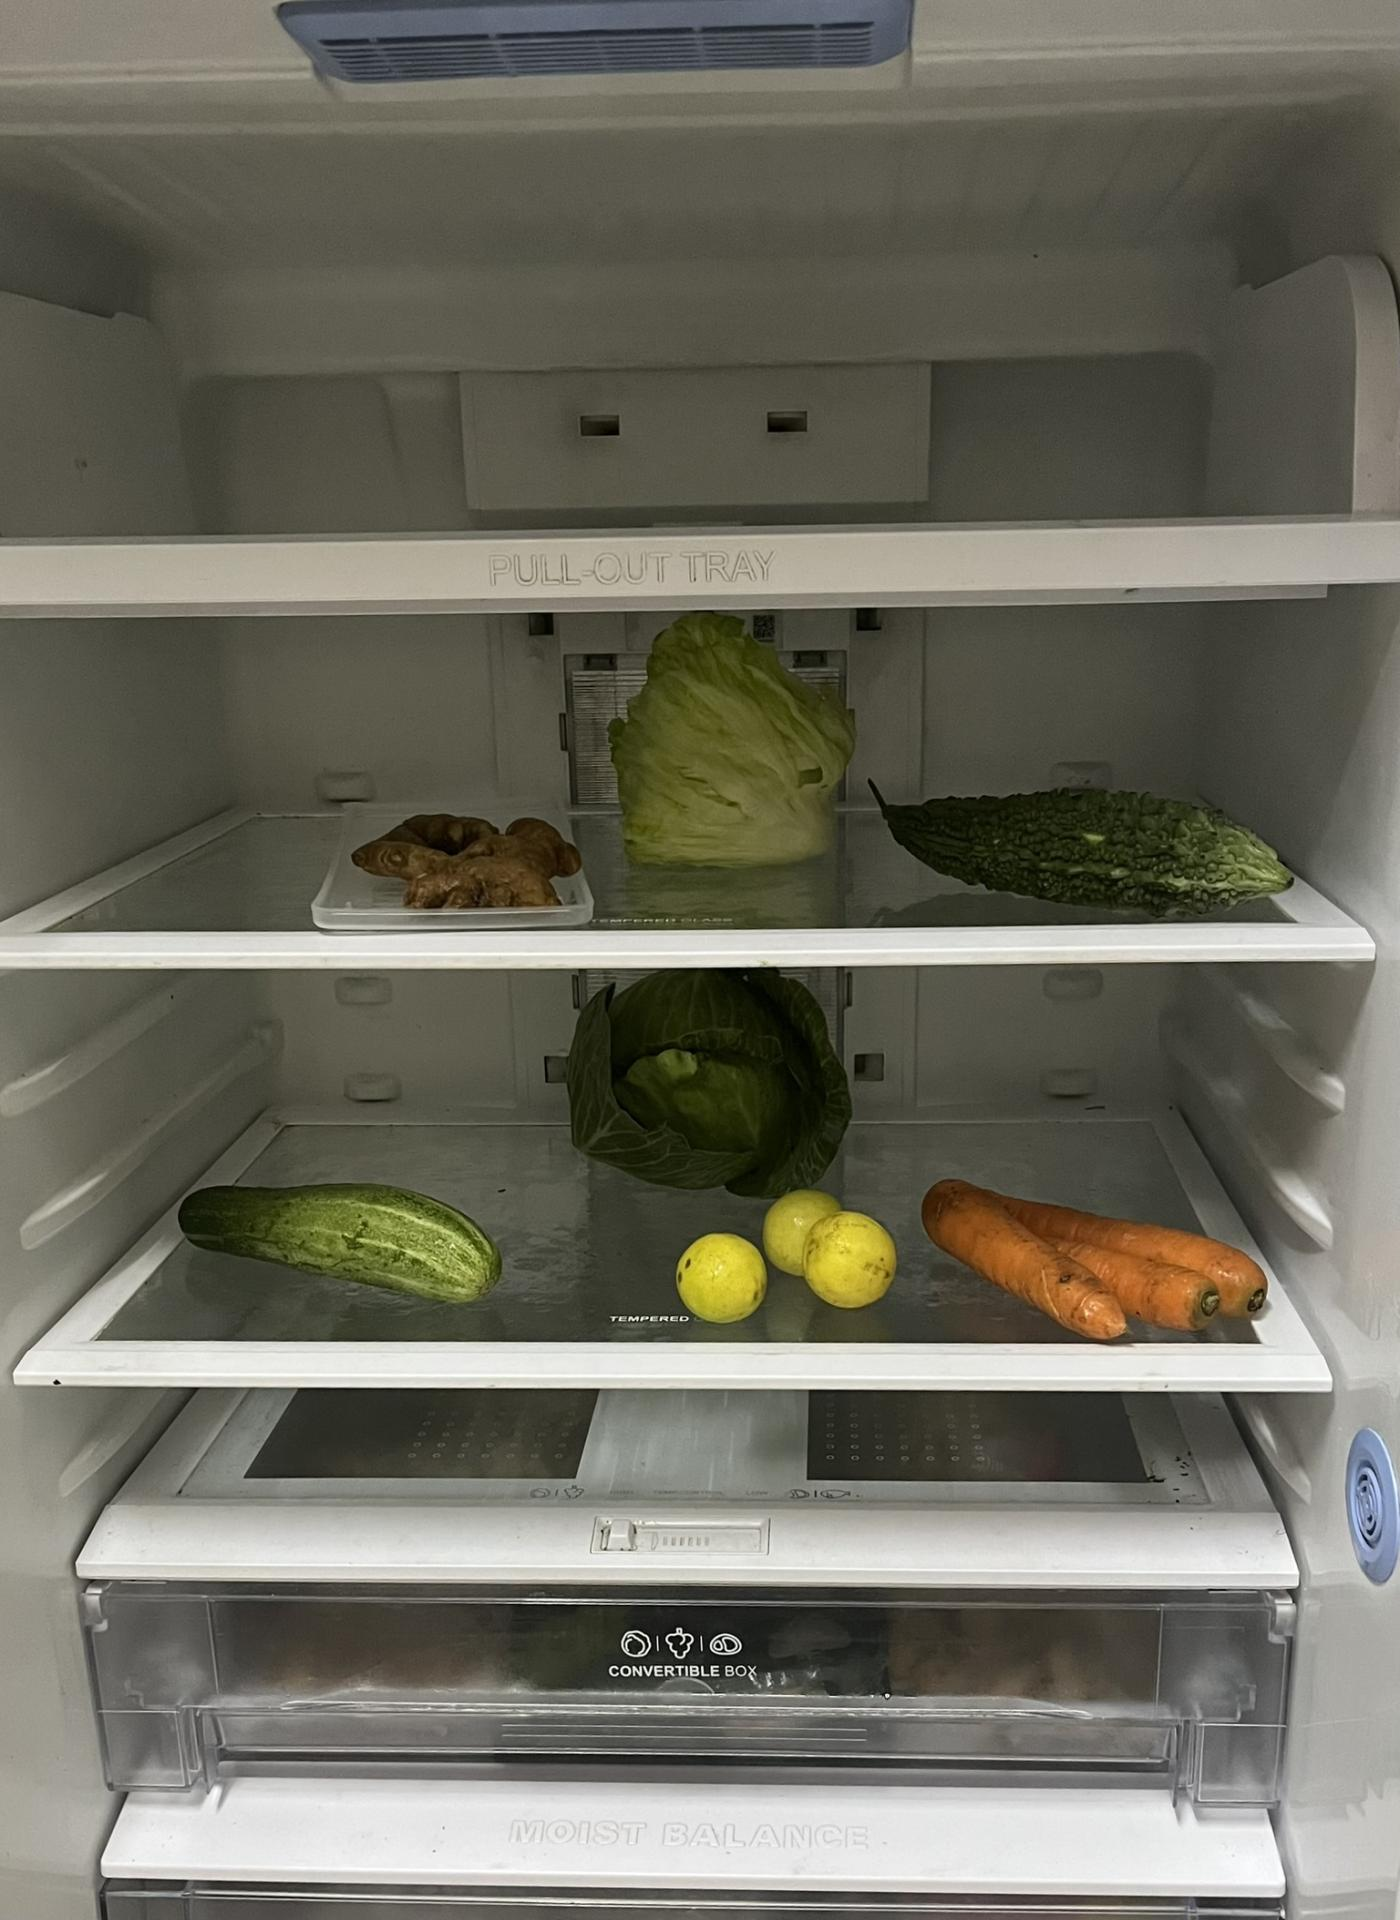cabbage: (564, 976, 863, 1173)
carrots: (927, 1169, 1258, 1333)
cucumber: (151, 1176, 520, 1313)
ginger: (376, 812, 573, 932)
lemon: (775, 1182, 904, 1330), (686, 1215, 772, 1319)
lettuce: (613, 625, 845, 888)
